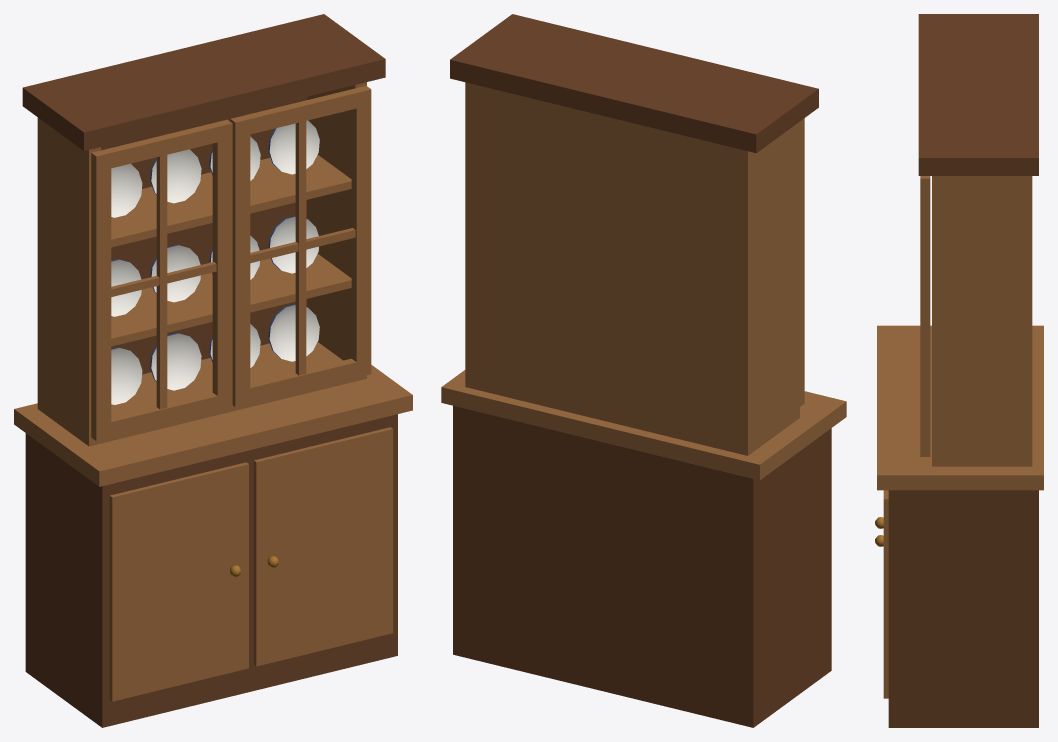
Rendered from cabinet.glb.
The picture shows the model from 3 angles, left to right: view 1: azimuth 30°, elevation 25°; view 2: azimuth 150°, elevation 25°; view 3: azimuth 270°, elevation 25°; orthographic projection. The views are drawn at different scales.
Visible parts, largest first — view 1: Cabinet doors, Cabinet glazed doors, Cabinet hutch, Cabinet base, Cabinet crown, Cabinet counter, Cabinet plates, Cabinet shelves; view 2: Cabinet hutch, Cabinet base, Cabinet crown, Cabinet counter, Cabinet glazed doors; view 3: Cabinet base, Cabinet hutch, Cabinet crown, Cabinet counter, Cabinet glazed doors, Cabinet doors.
Part boxes in pixels (<box>): Cabinet doors: <box>109,427,393,701</box>; Cabinet glazed doors: <box>91,85,371,441</box>; Cabinet hutch: <box>37,82,366,446</box>; Cabinet base: <box>25,414,397,727</box>; Cabinet crown: <box>22,14,385,150</box>; Cabinet counter: <box>14,365,412,486</box>; Cabinet plates: <box>111,120,319,404</box>; Cabinet shelves: <box>111,155,351,346</box>; Cabinet hutch: <box>465,82,799,455</box>; Cabinet base: <box>453,405,831,727</box>; Cabinet crown: <box>450,14,818,153</box>; Cabinet counter: <box>441,370,846,480</box>; Cabinet glazed doors: <box>800,118,804,406</box>; Cabinet base: <box>888,490,1038,727</box>; Cabinet hutch: <box>932,176,1032,466</box>; Cabinet crown: <box>918,14,1038,175</box>; Cabinet counter: <box>877,325,1043,490</box>; Cabinet glazed doors: <box>920,176,930,456</box>; Cabinet doors: <box>883,490,888,698</box>.
Bounding box in the file's own units: 1.06 × 1.89 × 0.5061.
